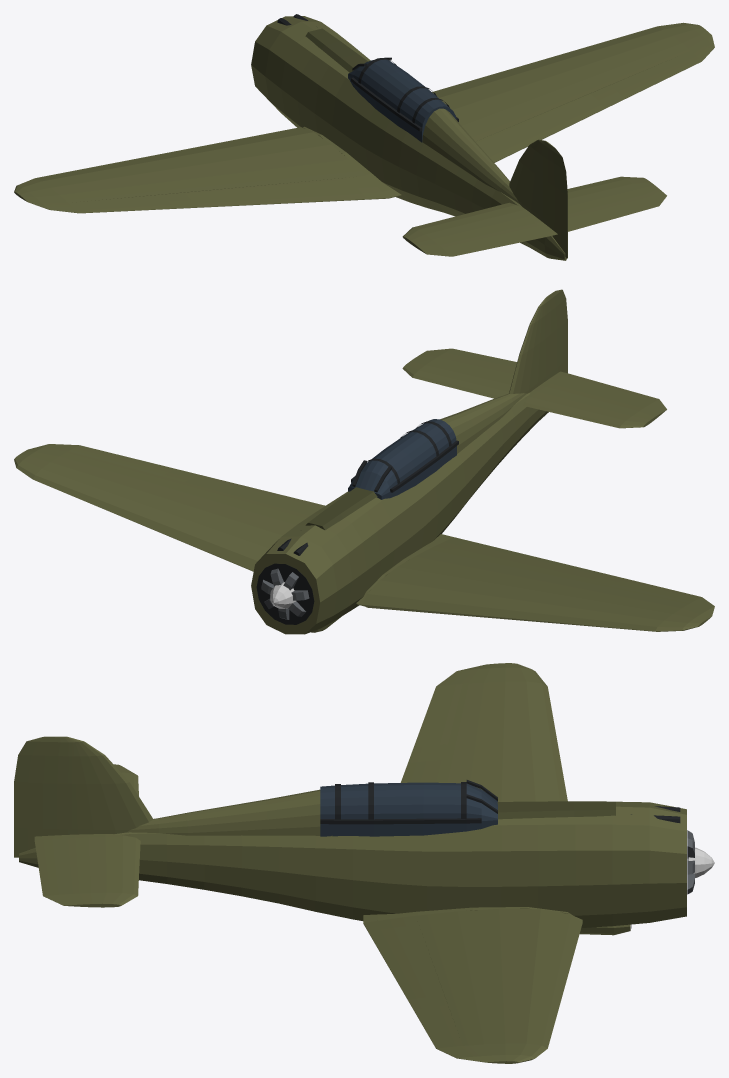
The picture shows the model from 3 angles, top to bottom: view 1: azimuth 30°, elevation 25°; view 2: azimuth 150°, elevation 25°; view 3: azimuth 270°, elevation 25°; orthographic projection. The views are drawn at different scales.
Parts seen in each view (by area): view 1: Fuselage, Wing L, Wing R, Cockpit Glass, Flap L, Dorsal Spine, Flap R, Stabilizer L, Rudder, Stabilizer R, Elevator L, Vertical Fin (+5 smaller); view 2: Fuselage, Wing L, Wing R, Cockpit Glass, Stabilizer L, Stabilizer R, Vertical Fin, Dorsal Spine, Flap L, Rudder, Flap R, Elevator L (+7 smaller); view 3: Fuselage, Wing R, Wing L, Cockpit Glass, Rudder, Dorsal Spine, Vertical Fin, Stabilizer R, Flap R, Elevator R, Aileron L, Glare Panel (+3 smaller).
Boxes of the visible parts, x1,y1,x2,y2 form: Fuselage: [251, 16, 566, 260]; Wing L: [14, 126, 401, 210]; Wing R: [432, 22, 714, 141]; Cockpit Glass: [348, 59, 456, 142]; Flap L: [184, 178, 367, 207]; Dorsal Spine: [416, 108, 519, 203]; Flap R: [476, 93, 605, 162]; Stabilizer L: [402, 202, 540, 249]; Rudder: [541, 141, 567, 258]; Stabilizer R: [567, 176, 658, 214]; Elevator L: [418, 221, 557, 256]; Vertical Fin: [509, 139, 546, 220]; Fuselage: [251, 392, 548, 634]; Wing L: [356, 534, 714, 631]; Wing R: [14, 444, 309, 571]; Cockpit Glass: [348, 419, 456, 499]; Stabilizer L: [523, 380, 658, 428]; Stabilizer R: [402, 355, 514, 398]; Vertical Fin: [509, 297, 546, 393]; Dorsal Spine: [440, 393, 526, 458]; Flap L: [450, 541, 605, 581]; Rudder: [544, 289, 567, 380]; Flap R: [185, 474, 325, 515]; Elevator L: [547, 371, 666, 415]; Fuselage: [19, 801, 686, 927]; Wing R: [363, 907, 582, 1063]; Wing L: [408, 663, 567, 801]; Cockpit Glass: [320, 782, 497, 836]; Rudder: [14, 736, 71, 857]; Dorsal Spine: [126, 789, 332, 836]; Vertical Fin: [65, 736, 153, 834]; Stabilizer R: [70, 834, 140, 907]; Flap R: [368, 924, 444, 999]; Elevator R: [34, 834, 83, 906]; Aileron L: [413, 673, 471, 747]; Glare Panel: [497, 801, 615, 819].
Bounding box in the file's own units: 11.38 × 2.61 × 8.47.
